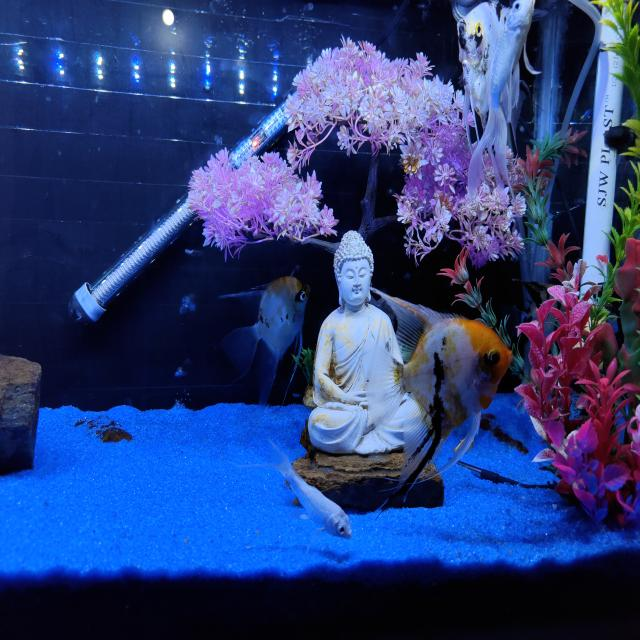Fish: (368, 288, 512, 497), (468, 0, 534, 193), (221, 276, 309, 405), (258, 440, 351, 538), (458, 2, 505, 144)
